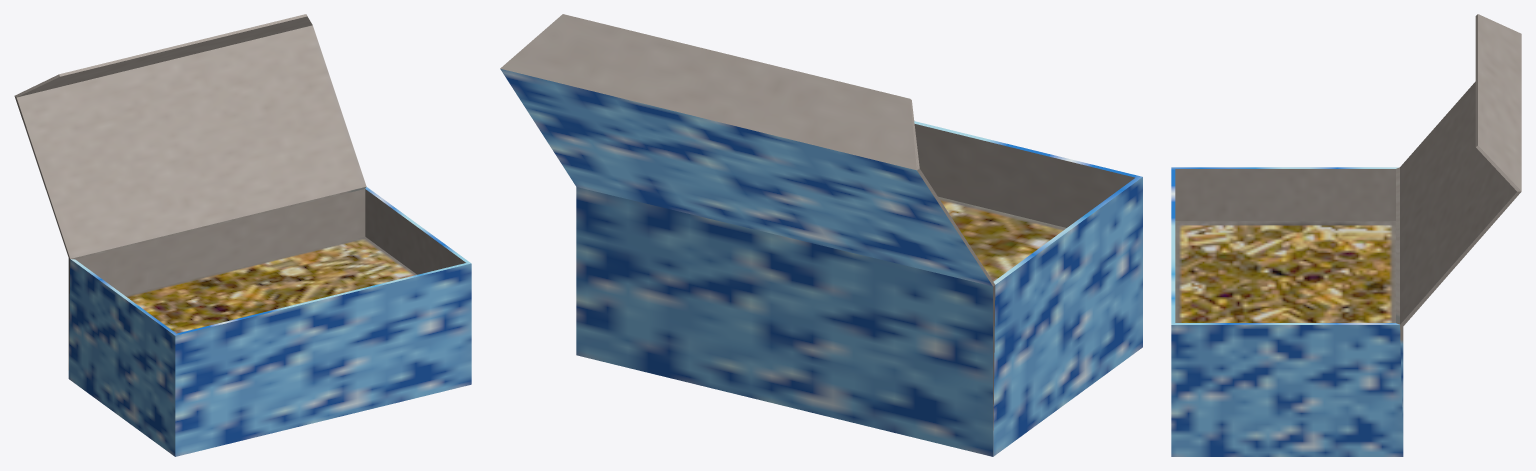
Rendered from CasesLeadBoxRect.fbx.
3 renders of one model, left to right at view 1: azimuth 30°, elevation 25°; view 2: azimuth 150°, elevation 25°; view 3: azimuth 270°, elevation 25°, orthographic. The views are drawn at different scales.
Visible parts, largest first — view 1: NailsBox001.001; view 2: NailsBox001.001; view 3: NailsBox001.001.
Boxes of the visible parts, x1,y1,x2,y2 form: NailsBox001.001: (14, 14, 471, 456); NailsBox001.001: (500, 14, 1142, 456); NailsBox001.001: (1171, 14, 1521, 456).
Bounding box in the file's own units: 0.3454 × 0.3048 × 0.3245.
